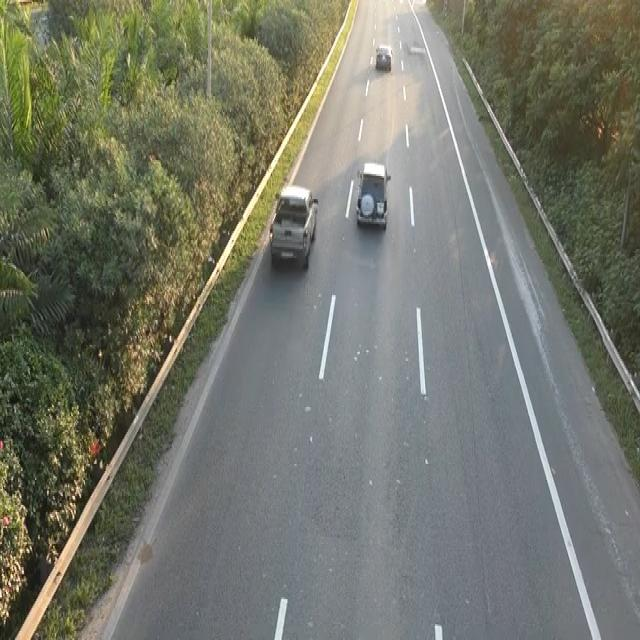bus: (374, 41, 392, 71)
car: (267, 182, 319, 270), (354, 158, 391, 231)
